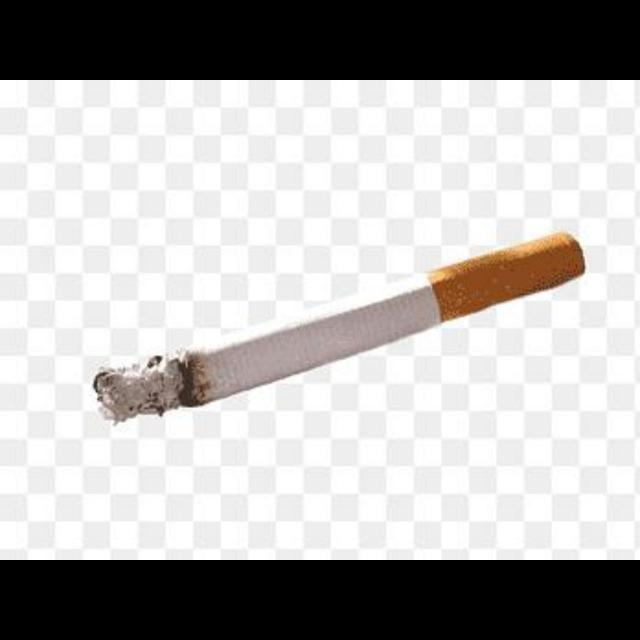cigarette: (90, 233, 589, 423)
